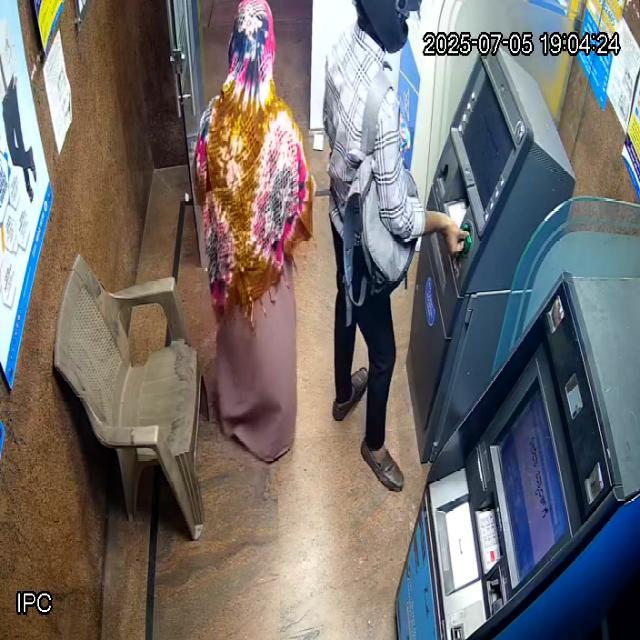helmet: (352, 0, 420, 54)
no_helmet: (226, 1, 278, 105)
